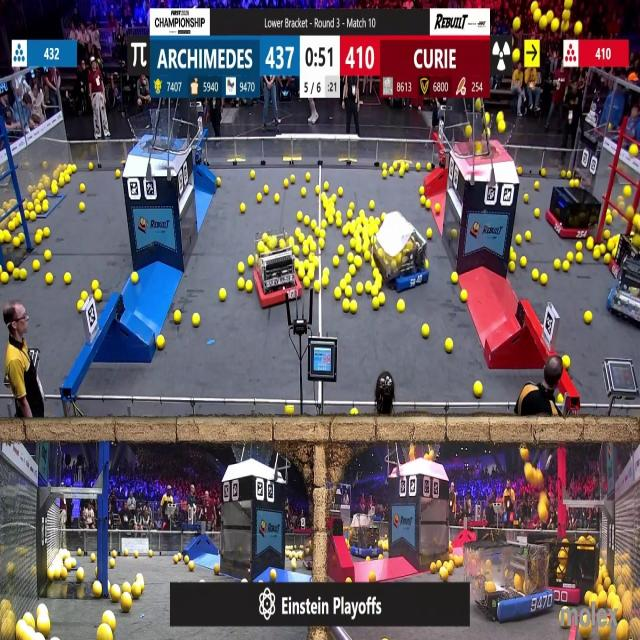ball_airborne: (538, 505, 547, 521), (533, 469, 542, 484), (525, 464, 533, 479), (514, 18, 522, 32), (521, 448, 529, 462), (573, 22, 581, 36), (514, 51, 522, 64), (464, 126, 472, 138), (630, 144, 638, 156), (552, 20, 560, 32), (538, 19, 546, 30), (475, 98, 481, 112), (625, 185, 632, 197), (498, 120, 505, 132), (539, 494, 547, 504), (563, 10, 571, 20), (627, 207, 634, 218), (531, 1, 538, 12), (564, 0, 572, 9), (634, 215, 640, 226), (411, 446, 416, 459), (475, 142, 481, 152), (485, 112, 491, 122), (497, 112, 503, 120), (487, 129, 492, 137)
ball_ground: (37, 616, 50, 636), (120, 594, 131, 612), (103, 614, 115, 630), (97, 627, 110, 640), (111, 587, 121, 602), (94, 584, 103, 598), (133, 585, 142, 599), (473, 382, 481, 397), (191, 313, 199, 327), (446, 339, 454, 353), (26, 616, 35, 628), (369, 284, 378, 295), (64, 273, 72, 285), (586, 312, 594, 324), (1, 273, 9, 285), (396, 302, 404, 314), (158, 338, 166, 350), (314, 280, 322, 292), (539, 274, 547, 286), (76, 568, 84, 580), (355, 254, 363, 266), (422, 324, 429, 337), (219, 288, 226, 301), (174, 311, 181, 324), (350, 302, 357, 315), (364, 281, 371, 294), (442, 567, 449, 580), (285, 406, 293, 417), (455, 556, 463, 567), (563, 356, 570, 368), (588, 239, 595, 251), (336, 288, 343, 300), (93, 280, 100, 292), (45, 274, 52, 285), (368, 570, 375, 581), (95, 290, 102, 301), (460, 290, 467, 301), (371, 300, 378, 311), (238, 279, 245, 290), (376, 280, 383, 291), (380, 292, 386, 304), (335, 255, 341, 267), (122, 584, 130, 593), (44, 250, 50, 262), (42, 201, 48, 213), (257, 242, 263, 254), (532, 271, 539, 281), (6, 264, 13, 274), (555, 261, 562, 271), (348, 253, 355, 263), (356, 284, 363, 294), (245, 282, 252, 292), (304, 278, 311, 288), (507, 264, 514, 274), (525, 232, 532, 242), (594, 249, 601, 259), (433, 204, 440, 214), (12, 238, 19, 248), (371, 270, 378, 280), (452, 273, 458, 284), (563, 262, 569, 273), (133, 273, 139, 284), (19, 270, 25, 281), (346, 286, 352, 297), (521, 256, 527, 267), (344, 301, 350, 312), (238, 264, 244, 275), (248, 255, 254, 266), (304, 245, 310, 256), (356, 244, 362, 255), (350, 266, 356, 277), (51, 183, 57, 194), (0, 232, 5, 245), (109, 559, 116, 568), (362, 241, 369, 250), (575, 252, 581, 262), (322, 278, 328, 288), (34, 262, 40, 272), (575, 242, 581, 252), (604, 254, 610, 264), (348, 210, 354, 220), (271, 570, 277, 580), (80, 290, 86, 300), (517, 235, 523, 245), (452, 230, 458, 240), (36, 235, 42, 245), (337, 218, 343, 228), (298, 270, 304, 280), (567, 252, 573, 262), (214, 564, 220, 574), (339, 186, 345, 196), (304, 215, 310, 225), (383, 540, 389, 550), (599, 244, 605, 254), (293, 246, 299, 256), (187, 562, 193, 572), (76, 302, 82, 312), (310, 242, 316, 252), (363, 252, 369, 262), (30, 211, 36, 221), (308, 270, 314, 280), (605, 214, 611, 224), (350, 239, 356, 249), (62, 569, 68, 579), (314, 255, 320, 265), (430, 562, 436, 572), (36, 204, 42, 214), (322, 269, 329, 277), (351, 410, 358, 418), (308, 235, 315, 243), (340, 246, 346, 255), (524, 193, 530, 202), (604, 231, 610, 240), (318, 240, 324, 249), (43, 229, 49, 238), (534, 181, 540, 190), (298, 235, 304, 244), (320, 231, 326, 240), (299, 187, 305, 196), (92, 554, 98, 563), (398, 169, 404, 178), (346, 275, 352, 284), (322, 200, 328, 209), (312, 220, 318, 229), (17, 234, 23, 243), (71, 560, 77, 569), (427, 230, 432, 240), (79, 203, 84, 213), (381, 213, 388, 220), (368, 202, 374, 210), (321, 220, 327, 228), (341, 280, 347, 288), (540, 169, 546, 177), (566, 171, 572, 179), (511, 252, 517, 260), (376, 216, 382, 224), (177, 554, 183, 562), (371, 224, 377, 232), (256, 192, 261, 201), (250, 171, 255, 180), (241, 204, 246, 213), (324, 182, 329, 191), (534, 209, 539, 218), (316, 185, 321, 194), (296, 212, 301, 221), (284, 179, 289, 188), (291, 561, 296, 570), (344, 226, 349, 235), (383, 169, 388, 178), (25, 211, 30, 220), (607, 241, 612, 250), (426, 165, 432, 172), (330, 193, 336, 200), (348, 203, 354, 210), (365, 556, 371, 563), (323, 211, 329, 218), (115, 170, 120, 178), (276, 192, 280, 202), (420, 186, 425, 194), (265, 185, 270, 193), (90, 164, 95, 172), (216, 178, 221, 186), (421, 198, 426, 206), (516, 166, 521, 174), (359, 210, 364, 218), (328, 216, 333, 224), (290, 175, 295, 183), (337, 210, 342, 218), (406, 162, 411, 170), (321, 191, 326, 199), (368, 215, 373, 223), (574, 179, 579, 187), (347, 576, 353, 582), (80, 183, 84, 192), (356, 217, 361, 224), (184, 556, 188, 564), (307, 174, 311, 182), (149, 552, 153, 560), (562, 171, 566, 179), (417, 164, 421, 172), (66, 175, 70, 183), (570, 180, 574, 188), (112, 552, 116, 559), (72, 166, 76, 173), (295, 227, 299, 234), (136, 553, 140, 560), (380, 555, 384, 561)
goal: (128, 115, 186, 152), (461, 124, 514, 158)
robot_blue: (468, 542, 553, 622), (386, 232, 430, 292), (347, 516, 382, 558)
robot_red: (542, 534, 600, 604), (256, 235, 301, 307), (547, 183, 601, 239), (610, 258, 640, 327)
